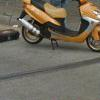Motorcycle: (14, 0, 100, 61)
